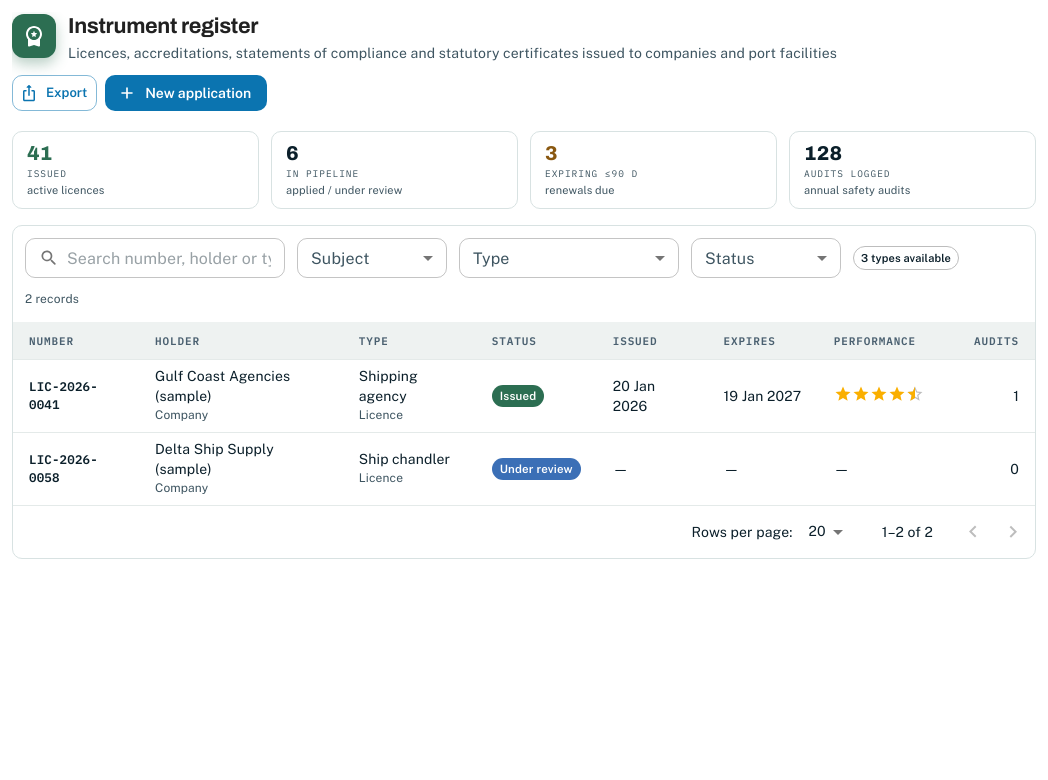
Test case: Instrument register › narrows the type list to the subject kind chosen
Expected: the text "3 types available" is shown, [854, 250, 958, 266]
Press the mouse on the dropdown next to "Subject" at (372, 258), box [297, 238, 447, 278]
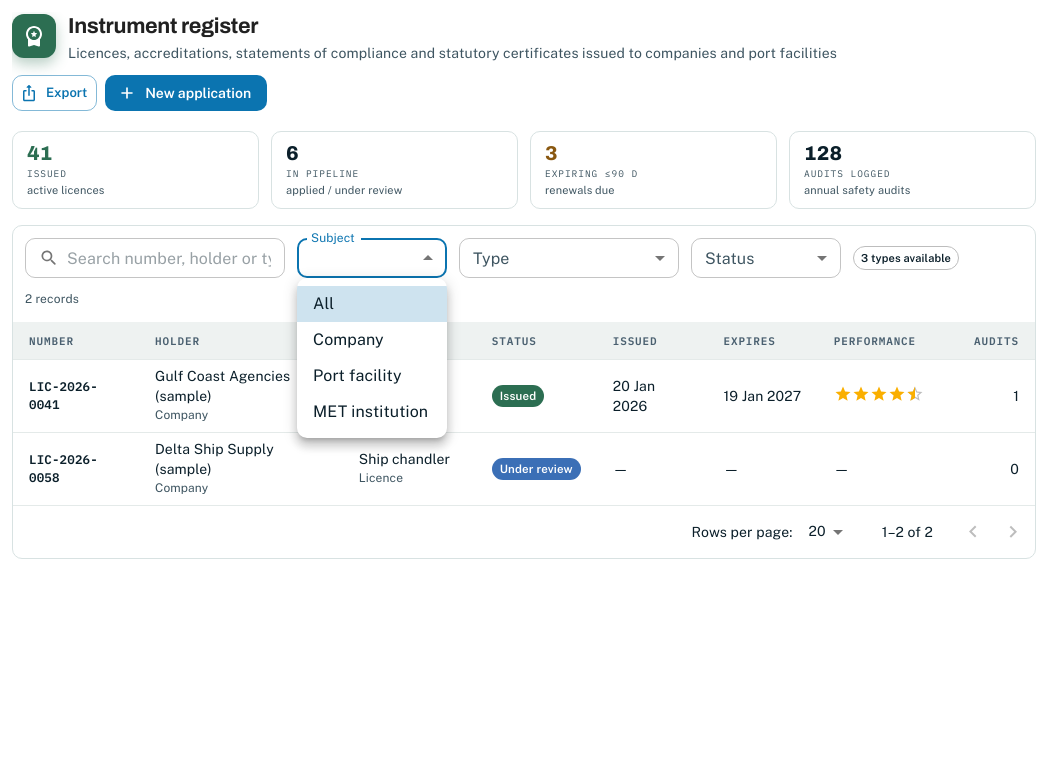
Click the option "Port facility" at (357, 376), box [313, 366, 402, 385]
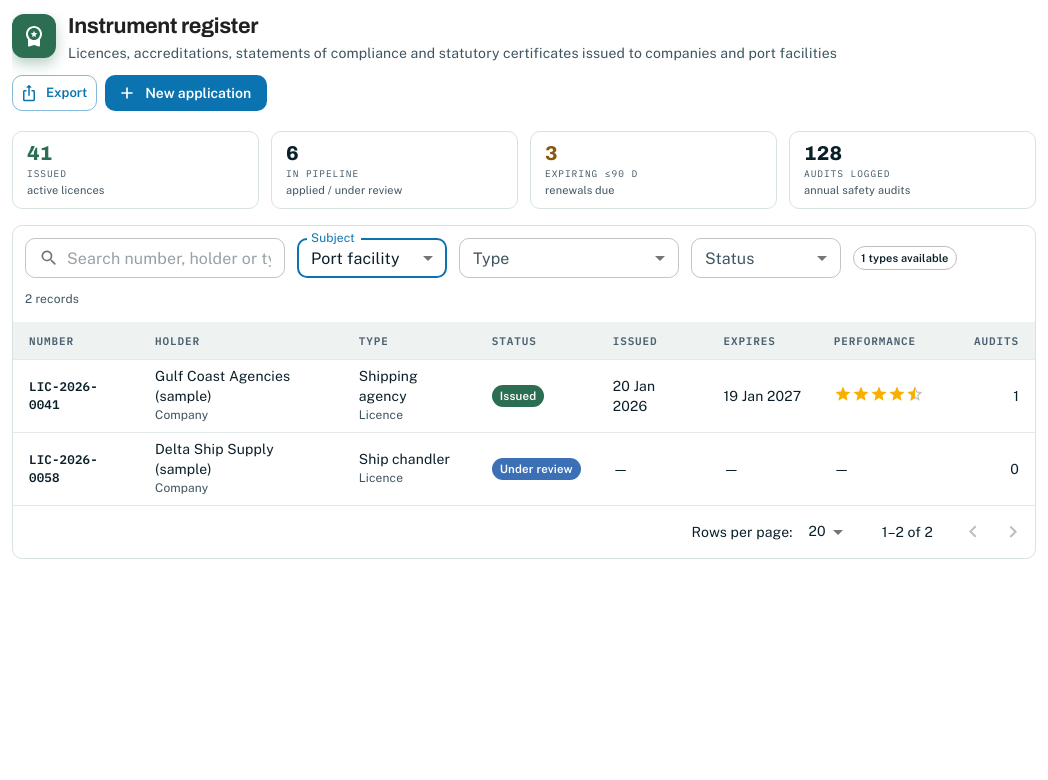
Expected: the text "1 types available" is shown, [854, 250, 956, 266]
